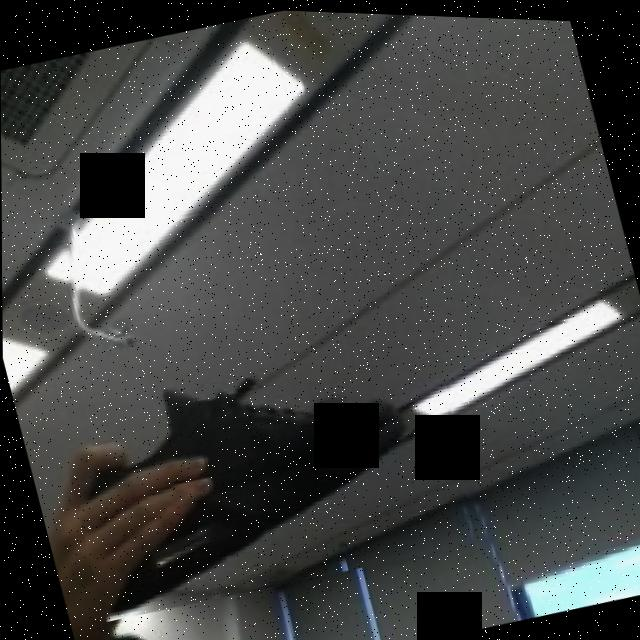shoe: (51, 313, 490, 632)
